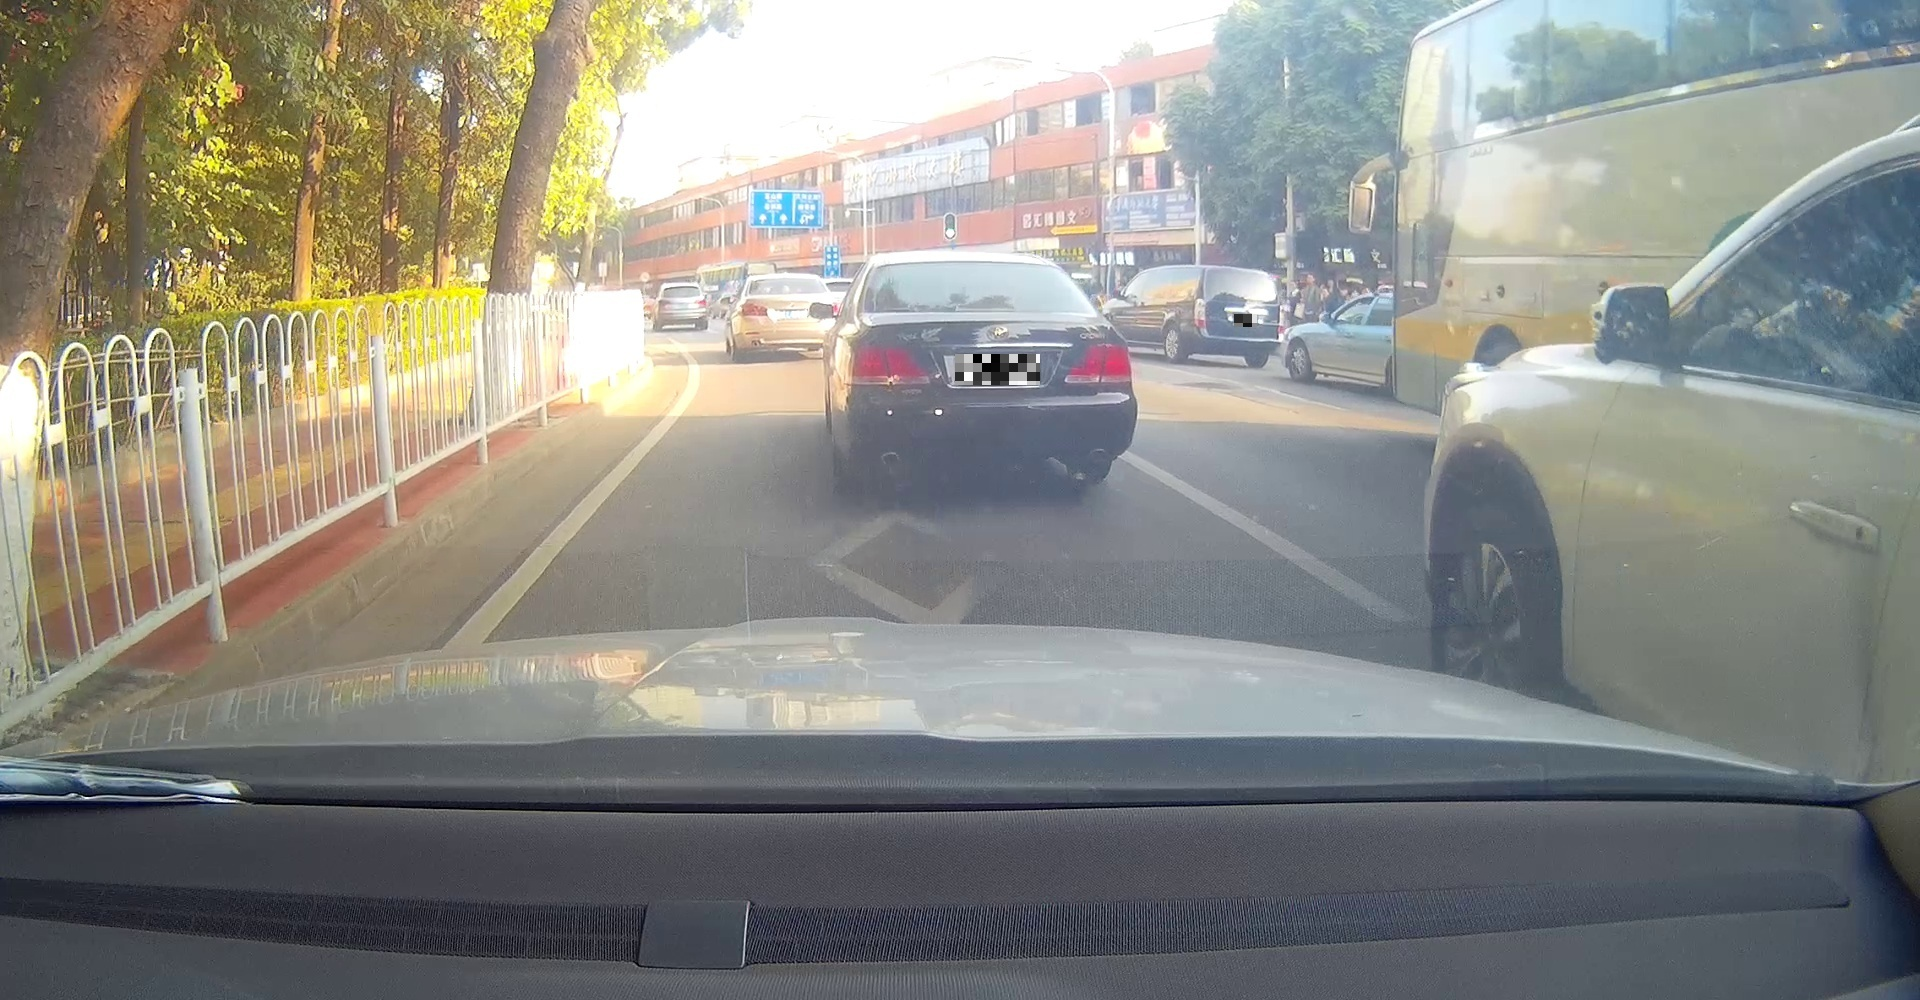L_light: (841, 346, 930, 385), (1194, 298, 1206, 327)
R_light: (1064, 343, 1131, 385), (1277, 305, 1285, 334)
T_light: (955, 305, 1016, 312), (1236, 272, 1252, 274)
day-no: (841, 249, 1137, 485), (1194, 265, 1285, 368)
plate_1: (955, 354, 1040, 385)
plate_2: (1234, 313, 1257, 327)
